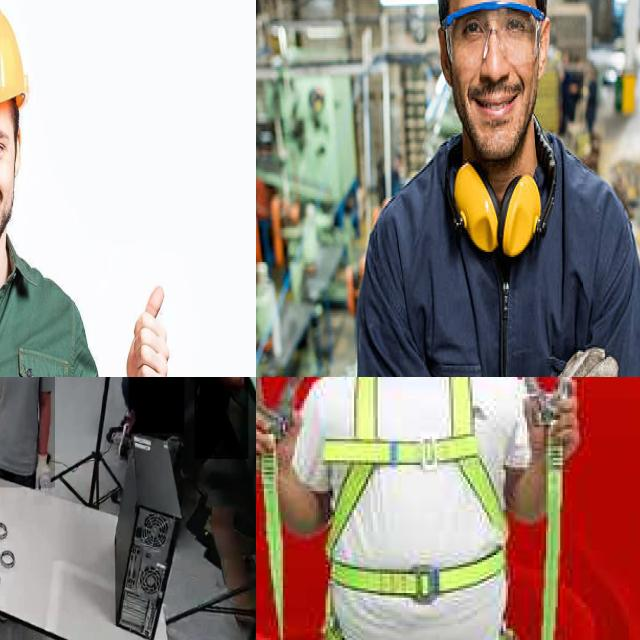Harness: (320, 377, 510, 640)
No_Ear-Protection: (537, 16, 558, 84), (434, 24, 454, 93)
face_nomask: (452, 32, 538, 161)
glasses: (442, 1, 544, 65)
hand_glove: (33, 452, 53, 506)
person: (0, 377, 55, 488), (194, 377, 249, 460), (128, 377, 185, 434)
